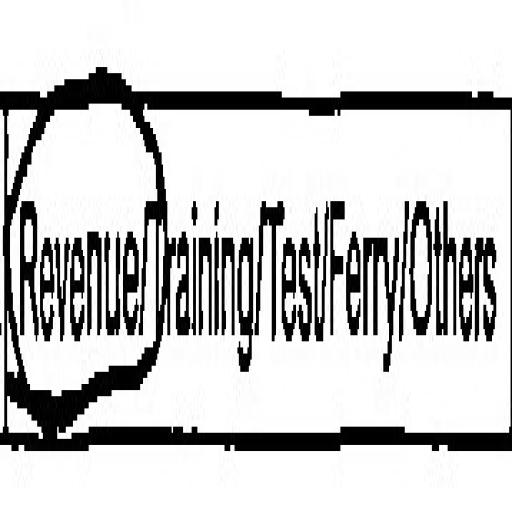check: (1, 9, 148, 497)
